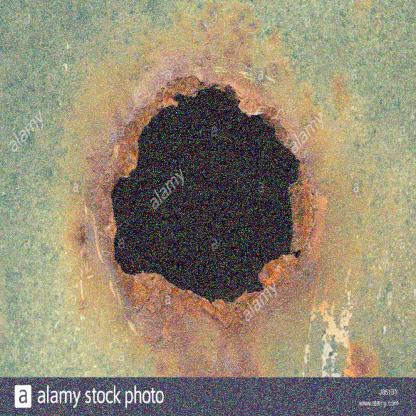burst: (86, 65, 333, 345)
